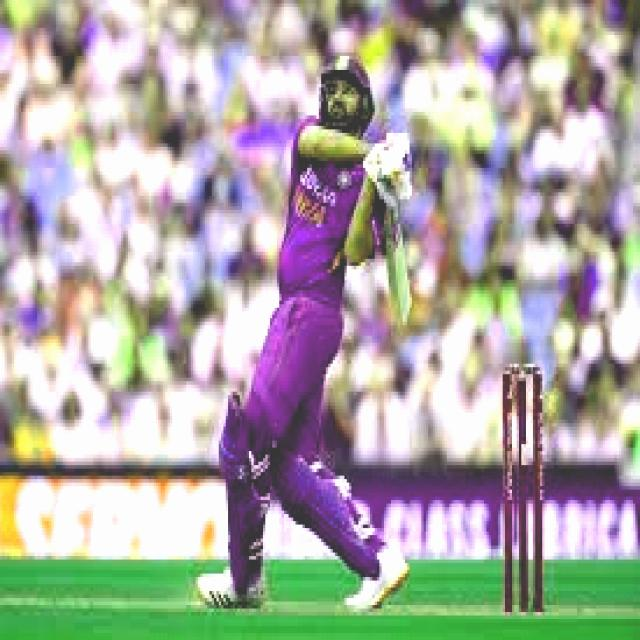toe: (392, 291, 415, 332)
